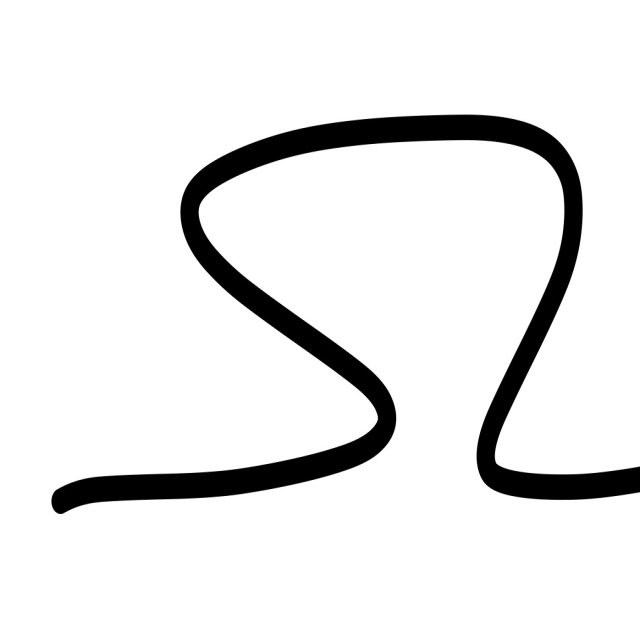ohms: (7, 36, 640, 600)
